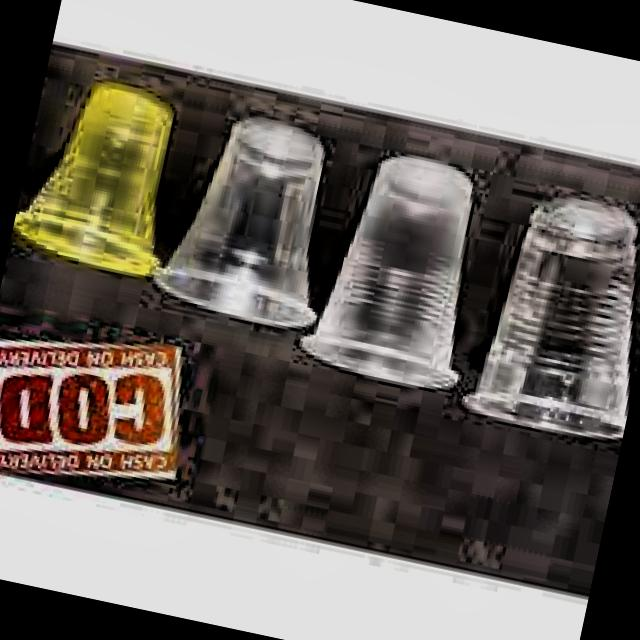plastic cup: (297, 138, 498, 402), (461, 173, 640, 464), (4, 67, 198, 300), (158, 110, 344, 344)
